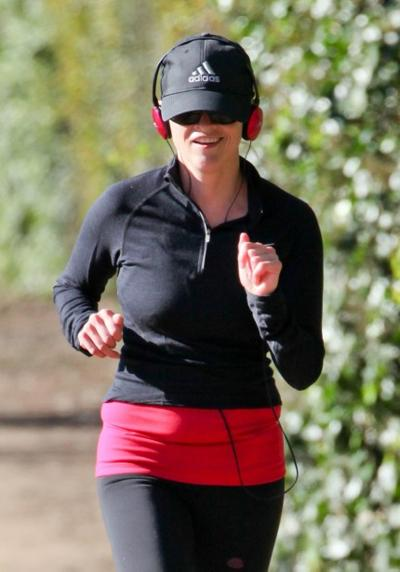person: (54, 33, 326, 564)
